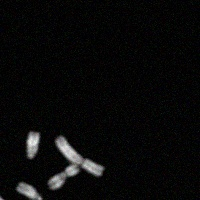chromosome: (54, 135, 103, 175), (48, 165, 80, 190), (17, 181, 43, 200), (25, 131, 38, 159), (0, 195, 17, 200)
